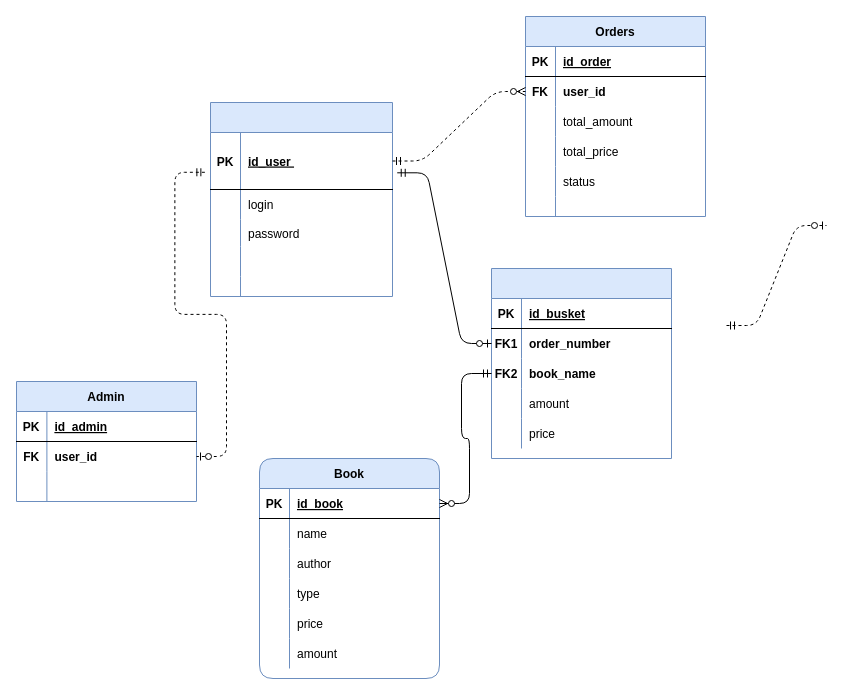
Image size: 843x695. Some labels were removed from this diagram. The box of each missing label's shape, as (x1, y1, x2, y2) in pixels:
Basket: (490, 268, 672, 458)
Users: (210, 102, 392, 296)
